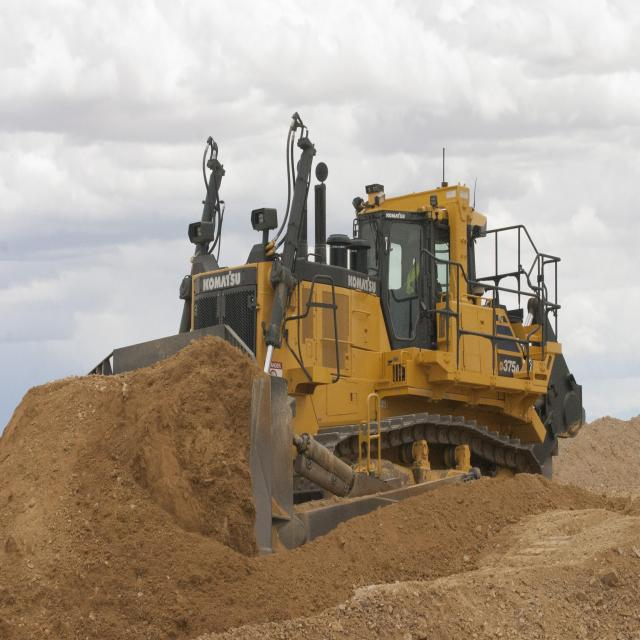Bulldozer: (55, 116, 598, 573)
